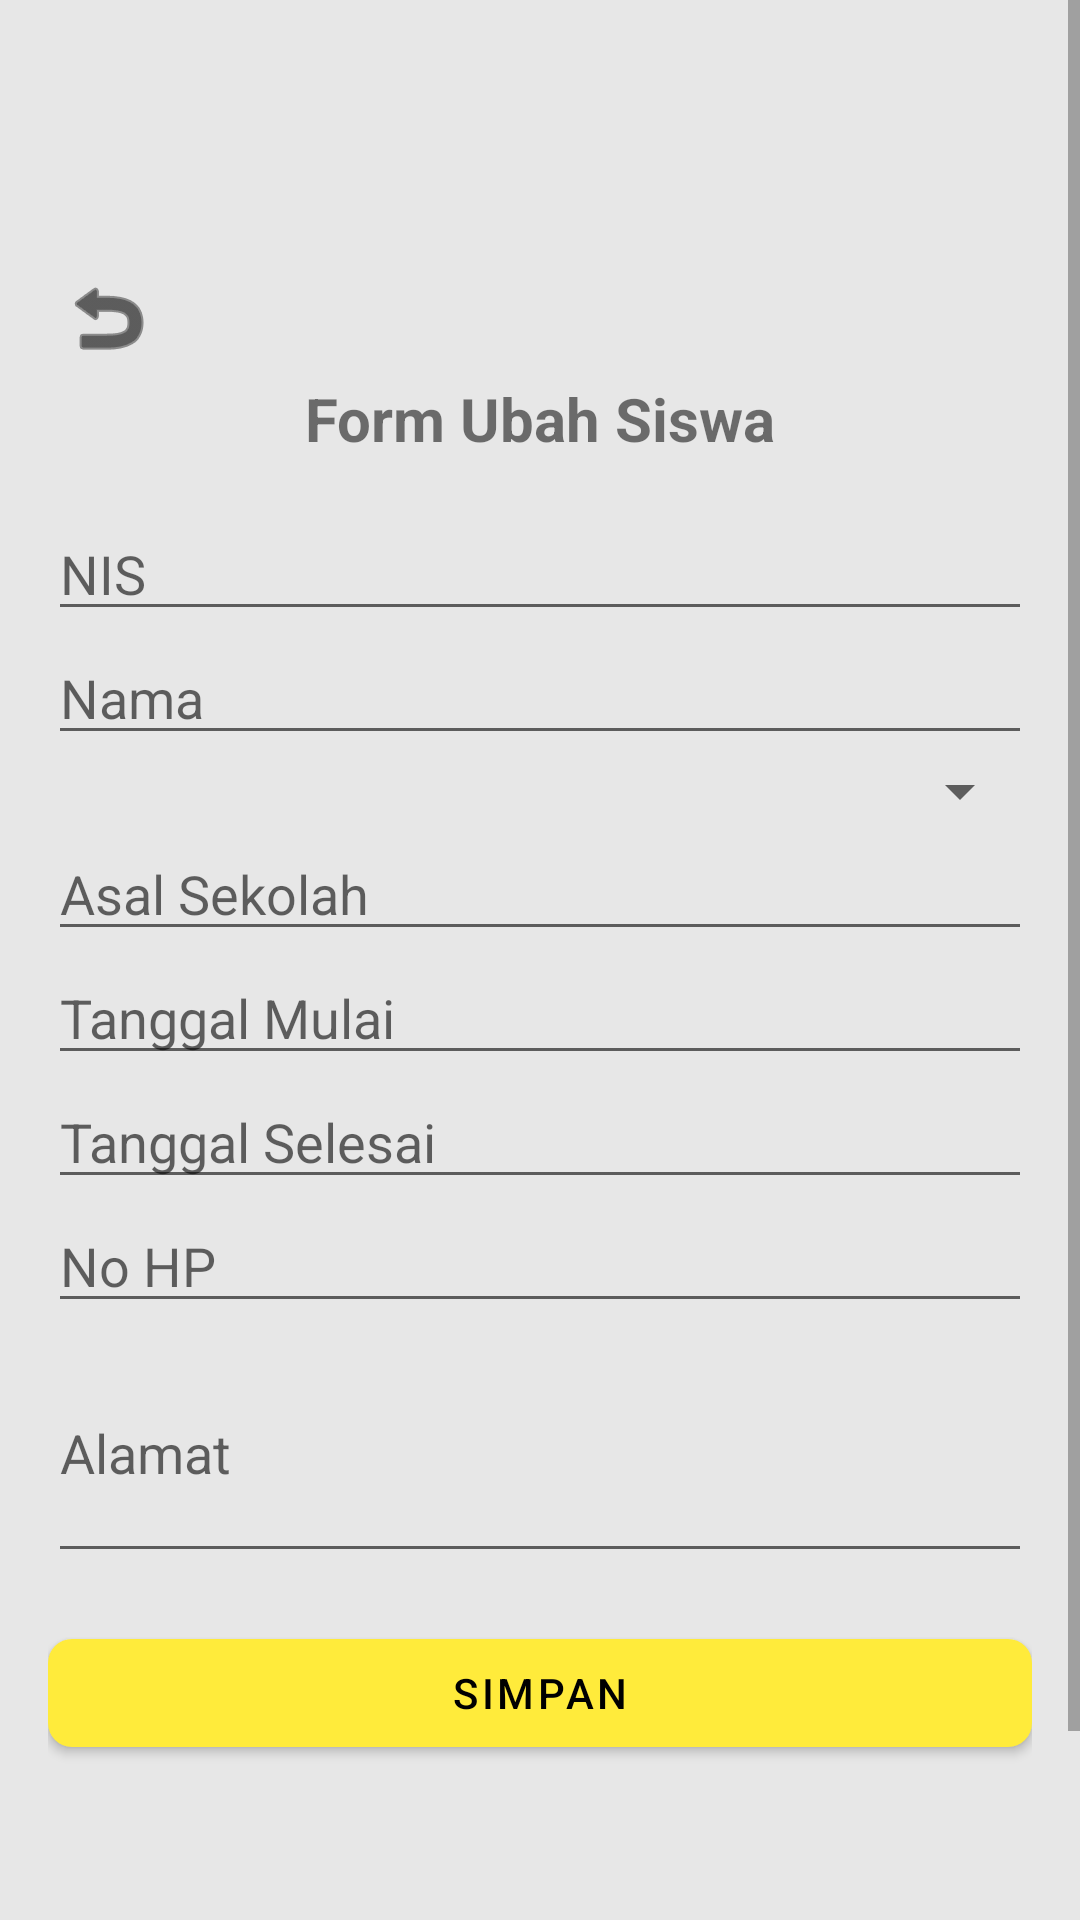

Locate icon controls on the screen. Image size 1080px x 1920px, boxes as (x1,y1,x2,y2).
Kembali: (75,287,144,350)
